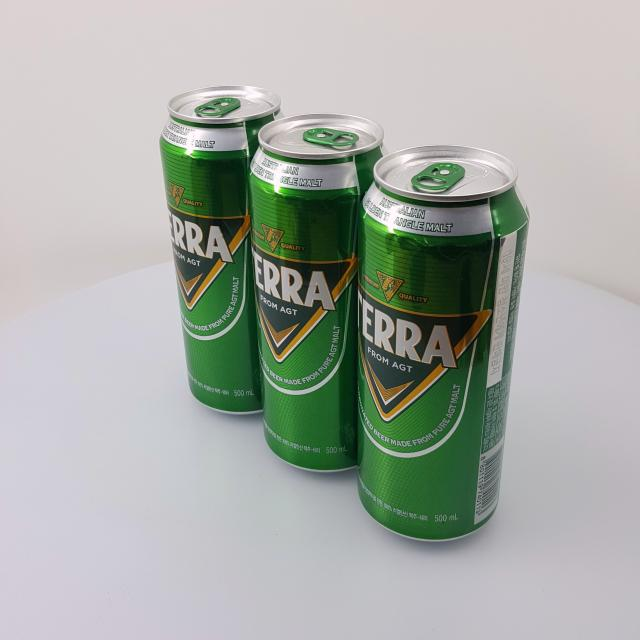beer-can: (355, 144, 529, 542), (247, 113, 395, 473), (158, 84, 292, 414)
